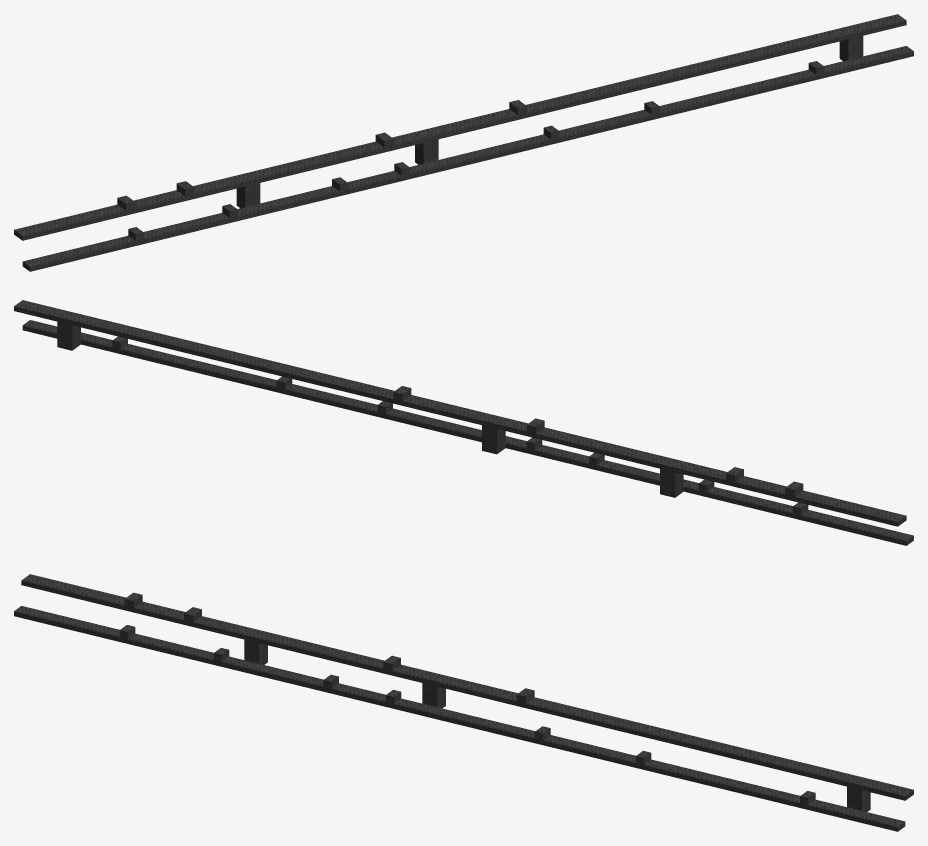
The model's file is Lvl1.dae.
The picture shows the model from 3 angles, top to bottom: view 1: azimuth 30°, elevation 25°; view 2: azimuth 150°, elevation 25°; view 3: azimuth 330°, elevation 25°; orthographic projection.
Parts seen in each view (by area): view 1: SketchUp; view 2: SketchUp; view 3: SketchUp.
Boxes of the visible parts, x1=… form: SketchUp: x1=14, y1=14, x2=913, y2=271; SketchUp: x1=14, y1=300, x2=913, y2=545; SketchUp: x1=14, y1=574, x2=913, y2=831.
Bounding box in the file's own units: 2694 × 85 × 108.
